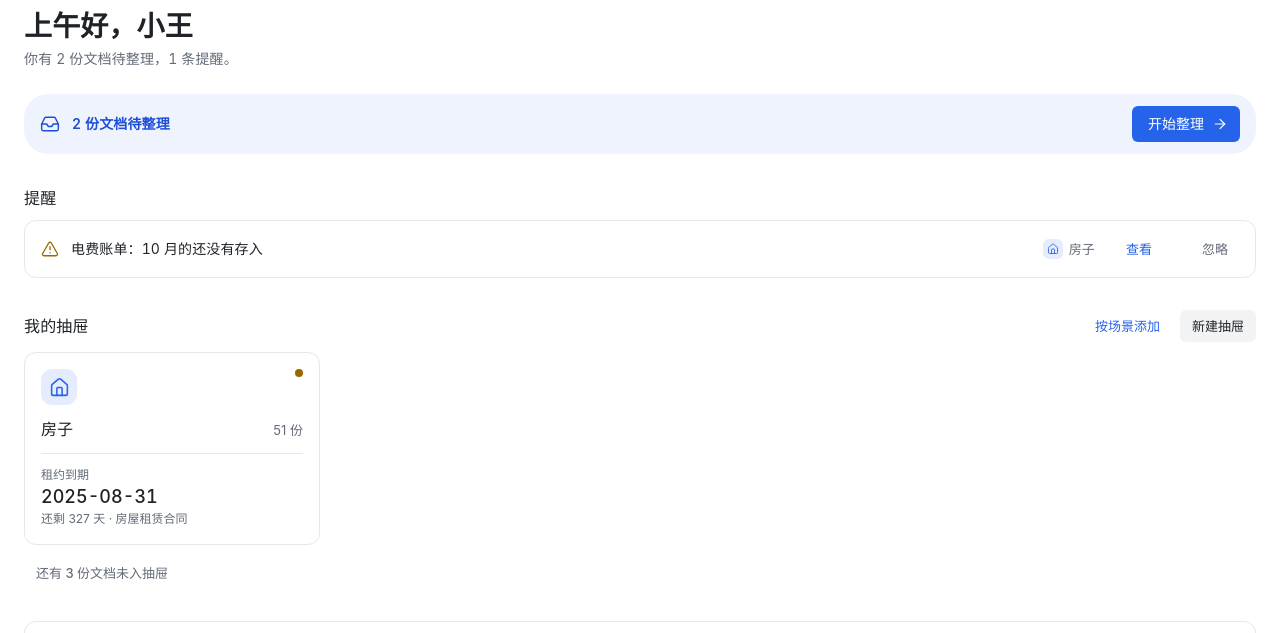
it: 首页 › 已有抽屉：按场景添加，已建过的模板标为已有，只创建还没有的
This screenshot has width=1280, height=633.
What coordinates should you click on to do the following:
click the button "按场景添加"
I would click on:
 (1128, 326)
Its box is [1083,310,1172,342].
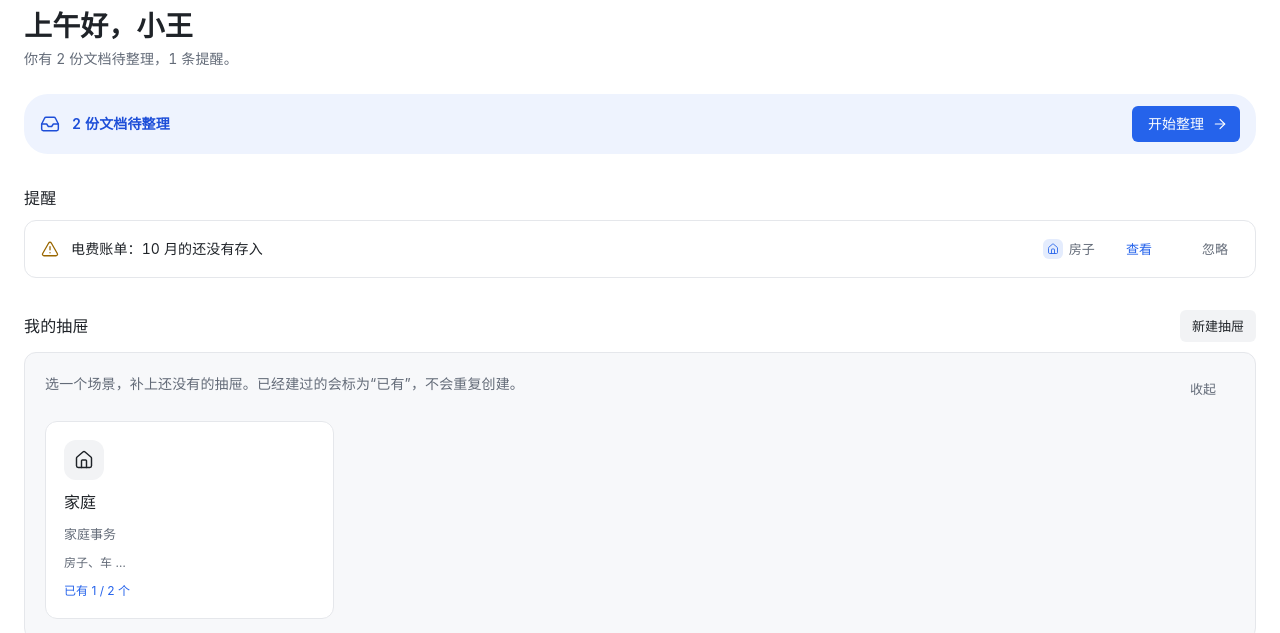
Now the text "已有 1 / 2 个" is shown, box [64,582,130,600]
What coordinates should you click on to do the following:
click the heading "家庭"
I would click on:
 (80, 502)
Its box is [64,490,96,514].
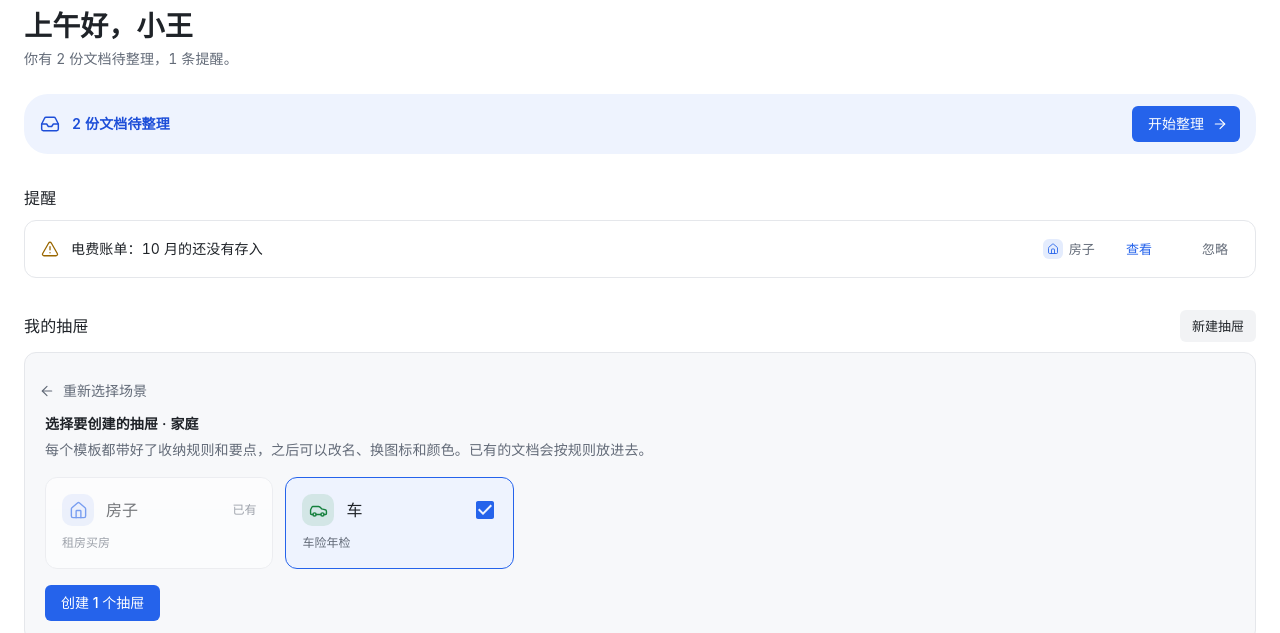
Now the text "已有" is shown, box [232,501,256,519]
What coordinates should you click on to do the following:
click the button "创建 1 个抽屉"
I would click on:
 (103, 603)
Its box is [45,585,160,621].
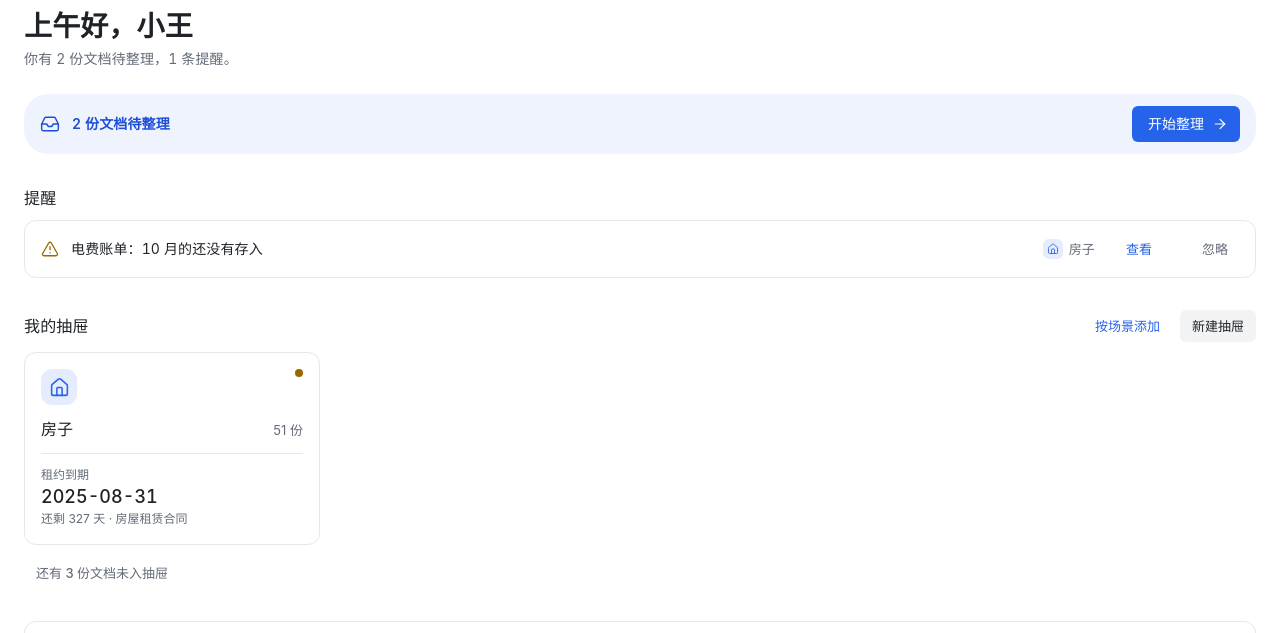
Now the button "按场景添加" is shown, box [1083,310,1172,342]
